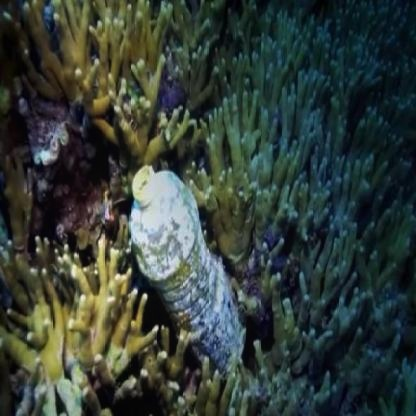pbottle: (121, 156, 253, 380)
